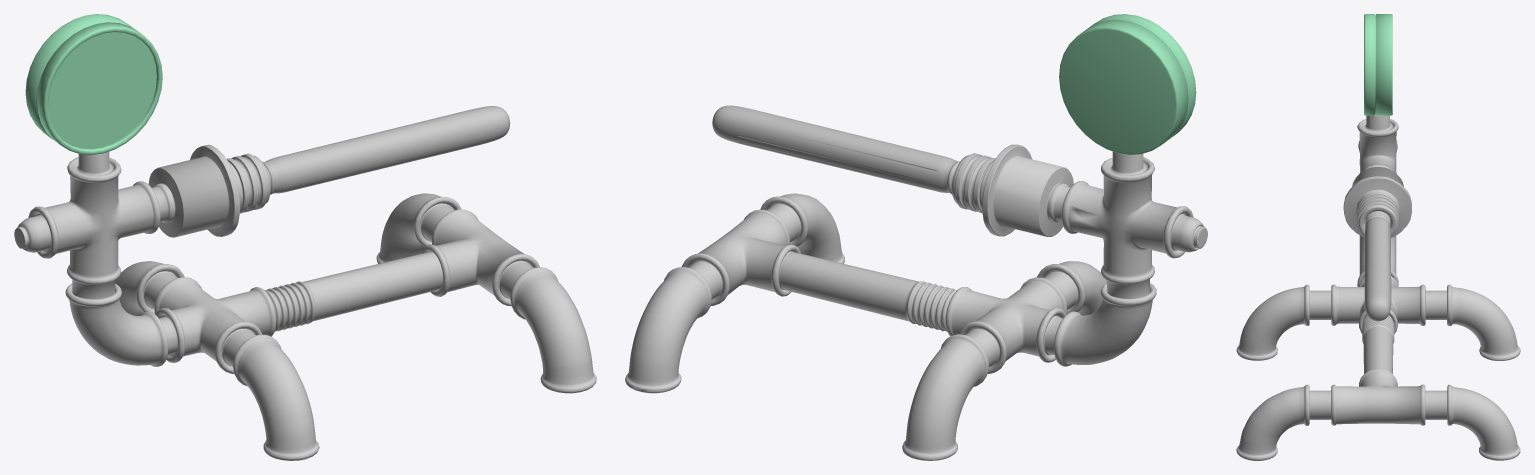
Rendered from lamp.obj.
The picture shows the model from 3 angles, left to right: view 1: azimuth 30°, elevation 25°; view 2: azimuth 150°, elevation 25°; view 3: azimuth 270°, elevation 25°; orthographic projection. The views are drawn at different scales.
Visible parts, largest first — view 1: lamp, clock, light; view 2: lamp, clock, light; view 3: lamp, clock, light.
Boxes of the visible parts, left/top/right/bottom form: lamp: left=14, top=144, right=596, bottom=460; clock: left=25, top=14, right=162, bottom=154; light: left=262, top=106, right=510, bottom=194; lamp: left=625, top=144, right=1207, bottom=460; clock: left=1059, top=14, right=1196, bottom=154; light: left=712, top=105, right=959, bottom=194; lamp: left=1236, top=114, right=1520, bottom=460; clock: left=1364, top=14, right=1392, bottom=115; light: left=1364, top=211, right=1391, bottom=321.
Bounding box in the file's own units: 353 × 272 × 239.
